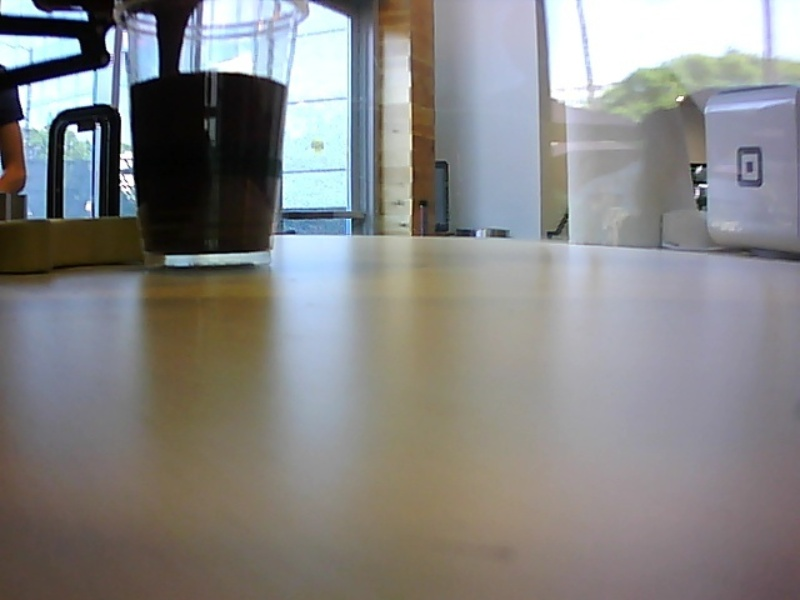cup: (101, 1, 311, 276)
limit: (127, 62, 292, 90)
